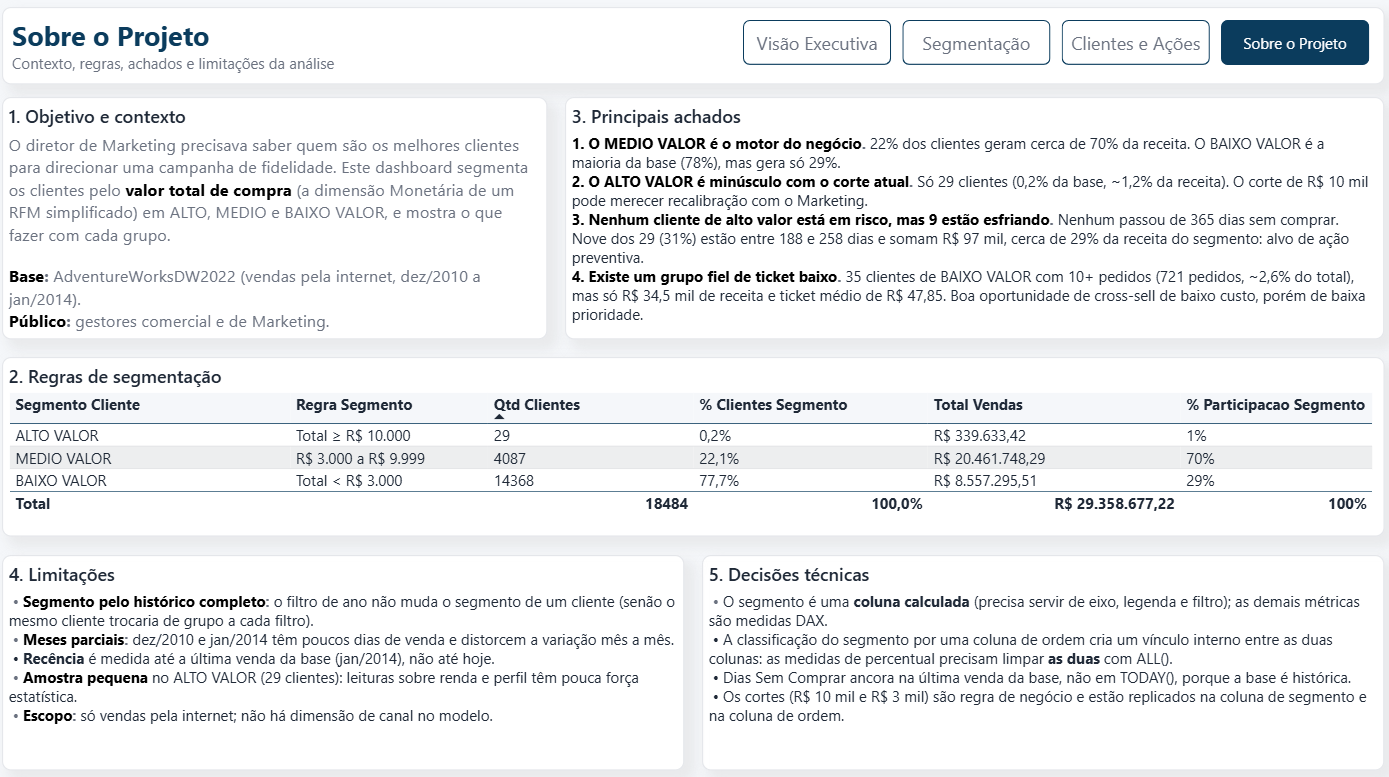

This screenshot's page, from the dashboard's own definition file:
{"tool":"powerbi","page":{"name":"Sobre o Projeto","canvas":[1280,720],"ordinal":3},"visuals":[{"type":"textbox","box":[24.2,16.2,1231.7,69.1],"z":0},{"type":"textbox","title":"1. Objetivo e contexto","box":[24,96,486,216],"z":1000},{"type":"textbox","title":"3. Principais achados","box":[526,96,730,216],"z":2000},{"type":"textbox","title":"5. Decisões técnicas","box":[648,504,608,192],"z":3000},{"type":"textbox","title":"4. Limitações","box":[24,504,608,192],"z":4000},{"type":"tableEx","title":"2. Regras de segmentação","fields":{"Values":["DimCustomer.Segmento Cliente","# Medidas.Regra Segmento","# Medidas.Qtd Clientes","# Medidas.% Clientes Segmento","# Medidas.Total Vendas","# Medidas.% Participacao Segmento"]},"box":[24,328,1232,160],"z":5000},{"type":"pageNavigator","box":[684,28,560,40],"z":6000}]}

Visuals, with their boxes in screenshot pixels (x1, y1, x2, y2), scaled from the page's 1280x720 canvas onto the 1389x777 screenshot:
textbox: {"left": 26, "top": 17, "right": 1363, "bottom": 92}
"1. Objetivo e contexto" textbox: {"left": 26, "top": 104, "right": 553, "bottom": 337}
"3. Principais achados" textbox: {"left": 571, "top": 104, "right": 1363, "bottom": 337}
"5. Decisões técnicas" textbox: {"left": 703, "top": 544, "right": 1363, "bottom": 751}
"4. Limitações" textbox: {"left": 26, "top": 544, "right": 686, "bottom": 751}
"2. Regras de segmentação" tableEx: {"left": 26, "top": 354, "right": 1363, "bottom": 527}
pageNavigator: {"left": 742, "top": 30, "right": 1350, "bottom": 73}
